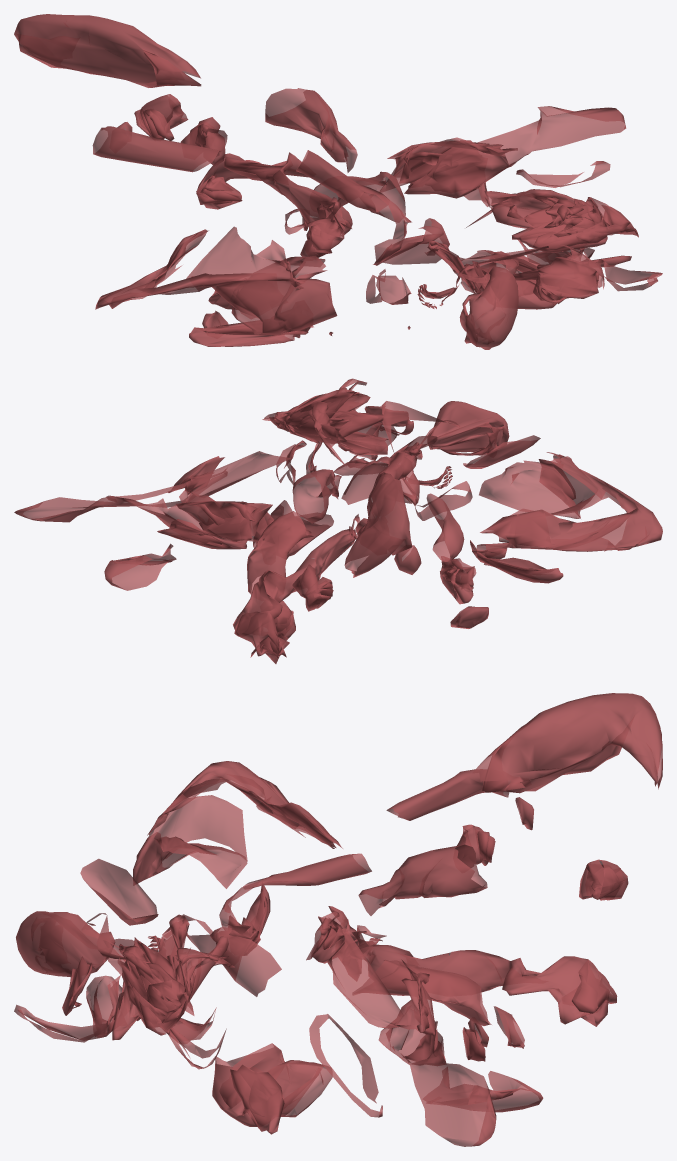
The model's file is TYTYBALOAR.gltf.
3 renders of one model, top to bottom at view 1: azimuth 30°, elevation 25°; view 2: azimuth 150°, elevation 25°; view 3: azimuth 270°, elevation 25°, orthographic. The views are drawn at different scales.
Visible parts, largest first — view 1: Nickz_humanMaleAveragefoda; view 2: Nickz_humanMaleAveragefoda; view 3: Nickz_humanMaleAveragefoda.
Boxes of the visible parts, x1,y1,x2,y2 form: Nickz_humanMaleAveragefoda: (14, 14, 662, 349); Nickz_humanMaleAveragefoda: (14, 378, 662, 663); Nickz_humanMaleAveragefoda: (14, 693, 662, 1146).
Size of the model in its own units: 2.85 by 1.07 by 2.36.
